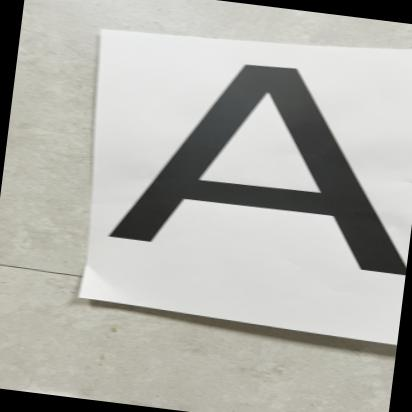seat: (88, 37, 412, 319)
